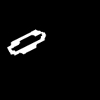chain: (8, 30, 44, 54)
